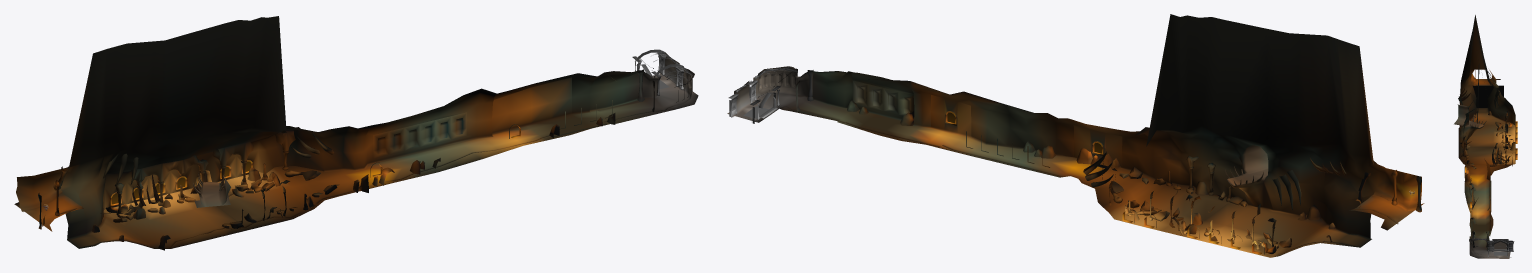
The model's file is 07Hall.gltf.
3 renders of one model, left to right at view 1: azimuth 30°, elevation 25°; view 2: azimuth 150°, elevation 25°; view 3: azimuth 270°, elevation 25°, orthographic. The views are drawn at different scales.
Visible parts, largest first — view 1: stg040_o22_Mesh_0000, stg040_o22_Mesh_0018, stg040_o22_Mesh_0004, stg040_o22_Mesh_0012, stg040_a22_Mesh_0000, stg040_o22_Mesh_0011, stg040_o22_Mesh_0015, stg040_o22_Mesh_0007, stg040_o22_Mesh_0008, stg040_o22_Mesh_0014, stg040_o22_Mesh_0017; view 2: stg040_o22_Mesh_0000, stg040_o22_Mesh_0018, stg040_o22_Mesh_0011, stg040_o22_Mesh_0015, stg040_a22_Mesh_0000, stg040_o22_Mesh_0007, stg040_o22_Mesh_0004, stg040_o22_Mesh_0008, stg040_o22_Mesh_0017, stg040_o22_Mesh_0014; view 3: stg040_o22_Mesh_0018, stg040_o22_Mesh_0000, stg040_a22_Mesh_0000, stg040_o22_Mesh_0007, stg040_o22_Mesh_0004, stg040_o22_Mesh_0008, stg040_o22_Mesh_0017, stg040_o22_Mesh_0014, stg040_p23_Mesh_0000, stg040_k24_Mesh_0001, stg040_o22_Mesh_0015, stg040_o23_Mesh_0008 (+1 smaller).
Part boxes in pixels (x1,y1,x2,y2): stg040_o22_Mesh_0000: [16, 16, 694, 250]; stg040_o22_Mesh_0018: [14, 74, 698, 248]; stg040_o22_Mesh_0004: [105, 129, 339, 228]; stg040_o22_Mesh_0012: [105, 77, 571, 209]; stg040_a22_Mesh_0000: [21, 72, 690, 248]; stg040_o22_Mesh_0011: [170, 64, 686, 193]; stg040_o22_Mesh_0015: [373, 73, 692, 158]; stg040_o22_Mesh_0007: [38, 51, 693, 229]; stg040_o22_Mesh_0008: [103, 132, 333, 206]; stg040_o22_Mesh_0014: [109, 133, 334, 228]; stg040_o22_Mesh_0017: [110, 124, 520, 206]; stg040_o22_Mesh_0000: [734, 14, 1421, 251]; stg040_o22_Mesh_0018: [727, 93, 1424, 257]; stg040_o22_Mesh_0011: [736, 77, 1122, 167]; stg040_o22_Mesh_0015: [759, 71, 1049, 167]; stg040_a22_Mesh_0000: [732, 91, 1416, 255]; stg040_o22_Mesh_0007: [731, 66, 1421, 247]; stg040_o22_Mesh_0004: [1097, 155, 1291, 252]; stg040_o22_Mesh_0008: [1083, 151, 1346, 210]; stg040_o22_Mesh_0017: [945, 111, 1264, 254]; stg040_o22_Mesh_0014: [1108, 167, 1290, 253]; stg040_o22_Mesh_0018: [1454, 79, 1515, 258]; stg040_o22_Mesh_0000: [1457, 15, 1515, 252]; stg040_a22_Mesh_0000: [1456, 78, 1512, 257]; stg040_o22_Mesh_0007: [1464, 70, 1513, 257]; stg040_o22_Mesh_0004: [1460, 111, 1513, 169]; stg040_o22_Mesh_0008: [1459, 87, 1502, 165]; stg040_o22_Mesh_0017: [1465, 121, 1517, 209]; stg040_o22_Mesh_0014: [1465, 122, 1510, 166]; stg040_p23_Mesh_0000: [1494, 241, 1506, 249]; stg040_k24_Mesh_0001: [1494, 249, 1507, 255]; stg040_o22_Mesh_0015: [1470, 172, 1490, 251]; stg040_o23_Mesh_0008: [1493, 240, 1507, 250].
Size of the model in its own units: 244 by 71.08 by 40.67.
